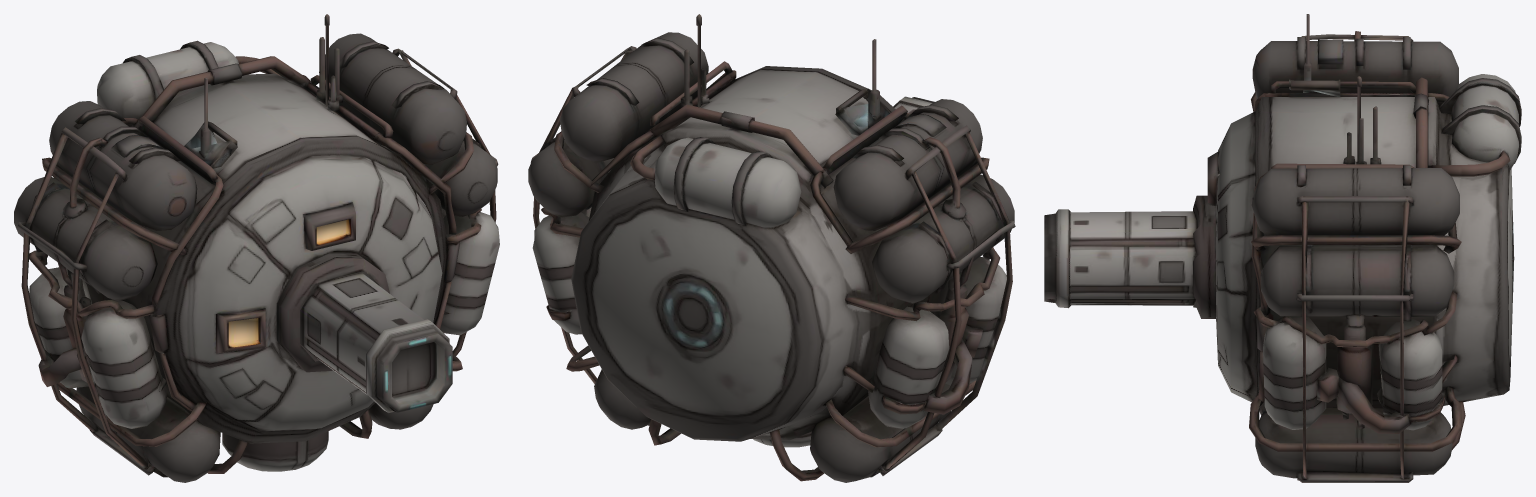
File: original_glb.glb
3 renders of one model, left to right at view 1: azimuth 30°, elevation 25°; view 2: azimuth 150°, elevation 25°; view 3: azimuth 270°, elevation 25°, orthographic. The views are drawn at different scales.
Visible parts, largest first — view 1: L1 Waystation; view 2: L1 Waystation; view 3: L1 Waystation.
Part boxes in pixels (x1=…): L1 Waystation: x1=14, y1=14, x2=499, y2=482; L1 Waystation: x1=528, y1=14, x2=1015, y2=482; L1 Waystation: x1=1044, y1=14, x2=1521, y2=482.
Size of the model in its own units: 0.998 by 0.9199 by 0.998.
Materials: 1 (1 with a texture image).
